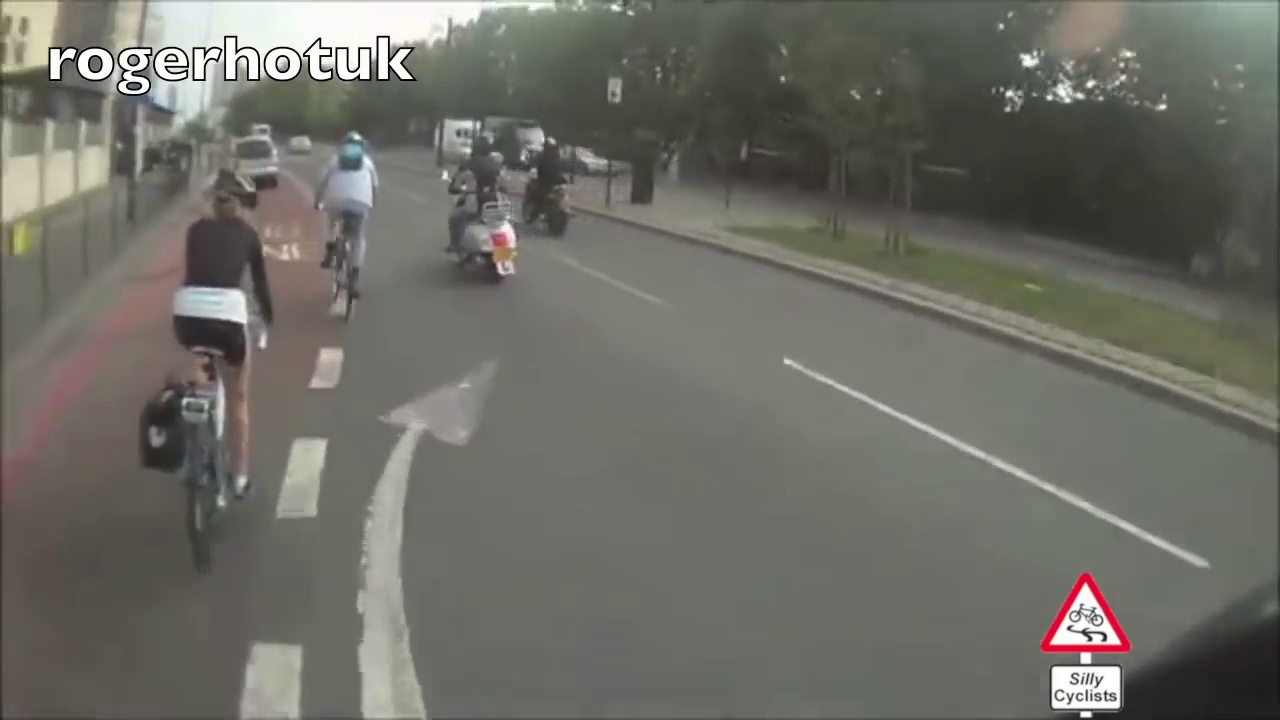cyclist_back: (139, 166, 279, 570), (313, 111, 383, 323), (439, 129, 522, 287), (518, 119, 580, 246)
